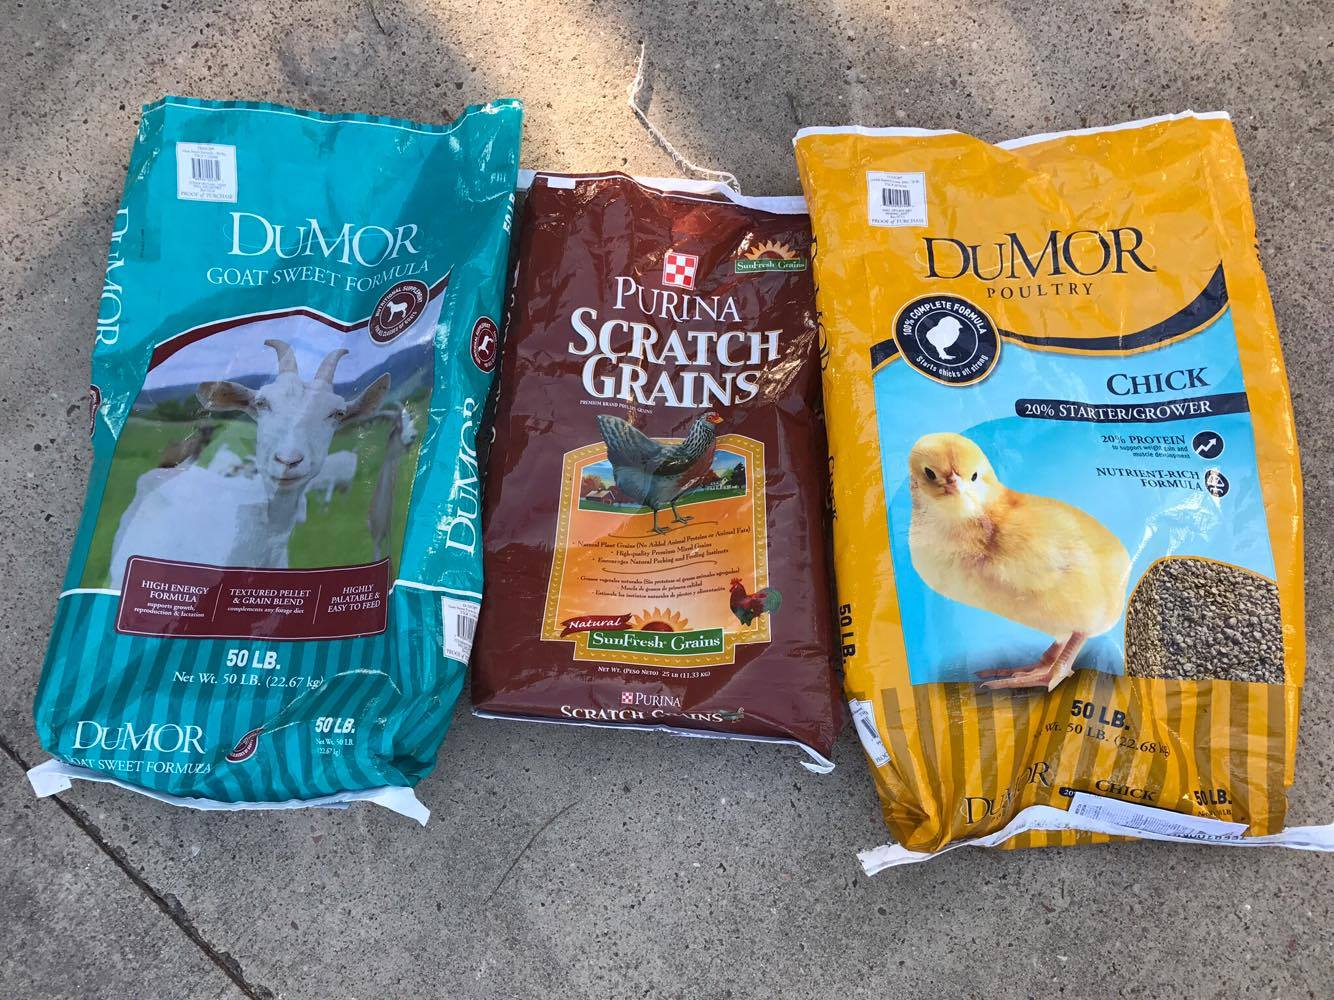feed_bag: (775, 96, 1311, 882)
